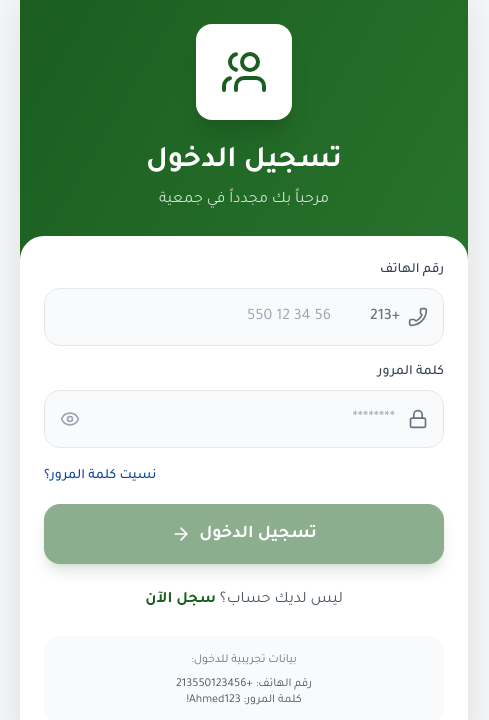
Test: Authentication › should show error for invalid credentials
This screenshot has width=489, height=720.
Type "000000000" into the field with placeholder "550 12 34 56" at coordinates (244, 317), box [44,288,444,346]
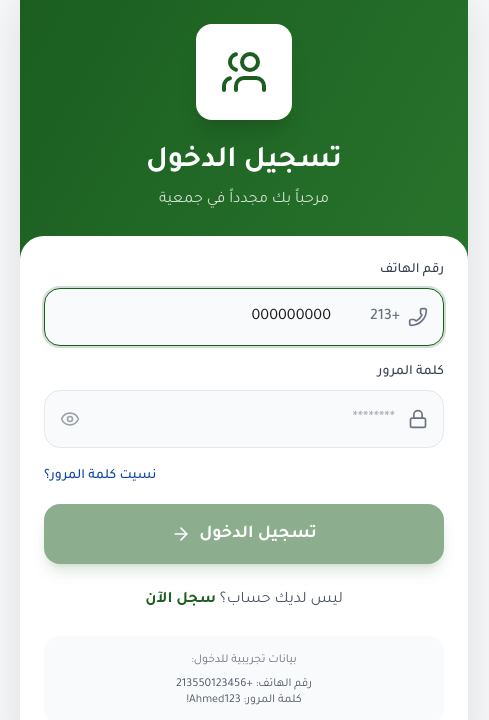
Type "wrongpassword" into the password field with placeholder "********" at coordinates (244, 419), box [44,390,444,448]
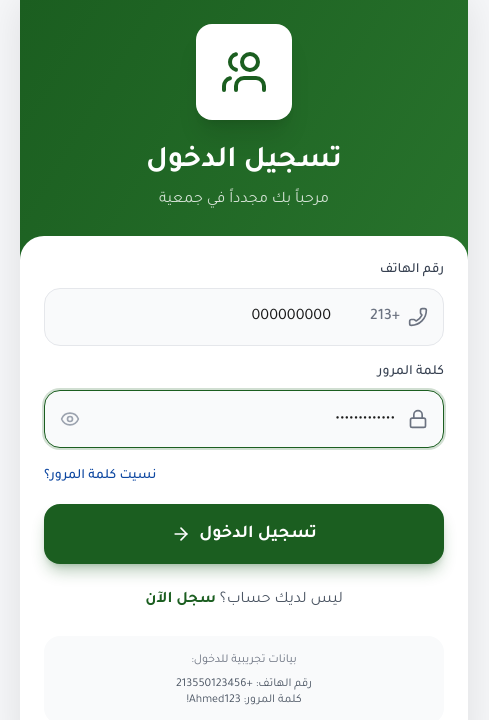
Click the submit button at coordinates (244, 534), box [44,504,444,564]
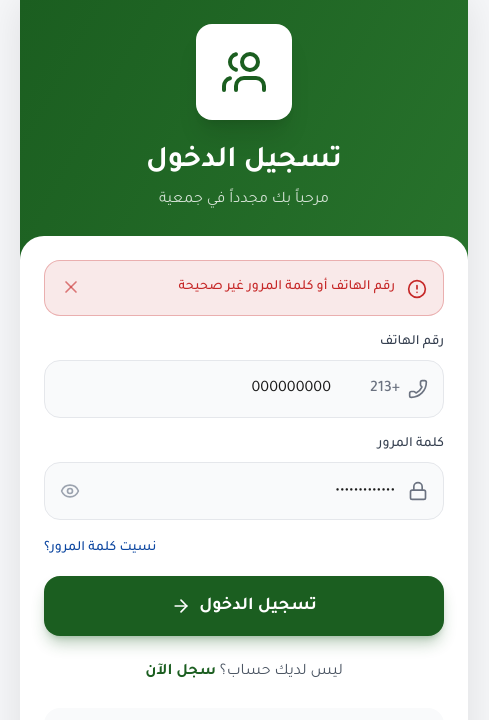
Check: the text "رقم الهاتف أو كلمة المرور غير صحيحة" is shown, box [178,280,395,294]
